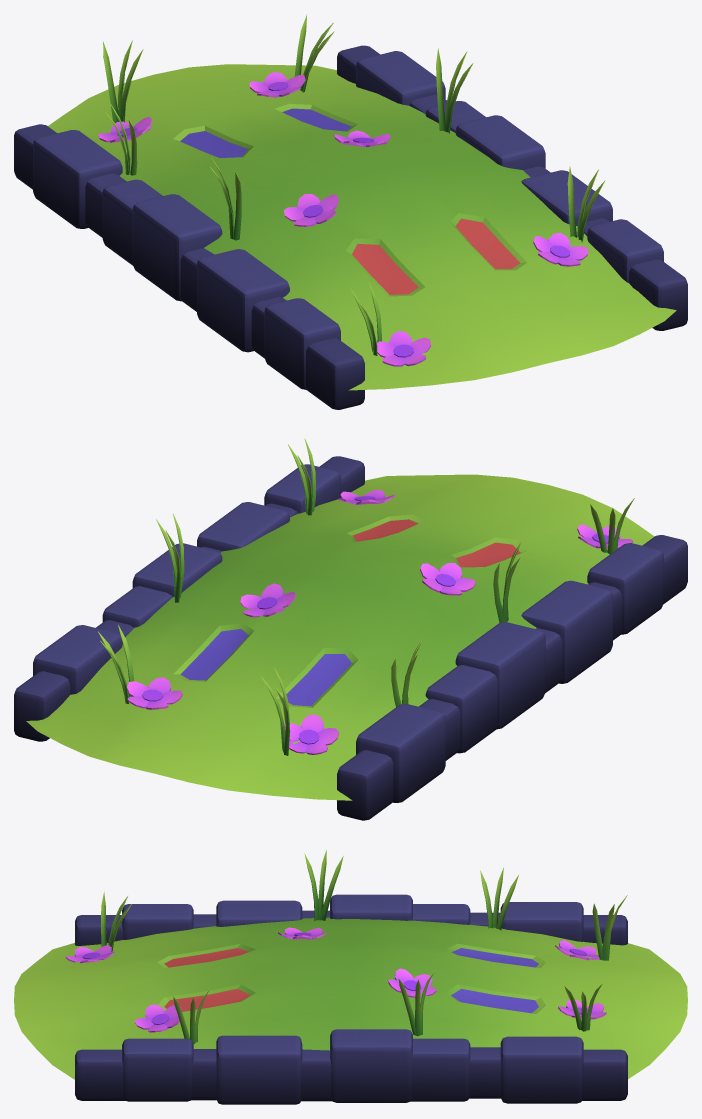
Rendered from hug_station_03.fbx.
3 renders of one model, top to bottom at view 1: azimuth 30°, elevation 25°; view 2: azimuth 150°, elevation 25°; view 3: azimuth 270°, elevation 25°, orthographic. The views are drawn at different scales.
Visible parts, largest first — view 1: hug_station_03; view 2: hug_station_03; view 3: hug_station_03.
Boxes of the visible parts, x1,y1,x2,y2 form: hug_station_03: [14, 15, 687, 409]; hug_station_03: [14, 439, 687, 820]; hug_station_03: [14, 850, 687, 1104].
Bounding box in the file's own units: 2.51 × 0.8793 × 4.6.
